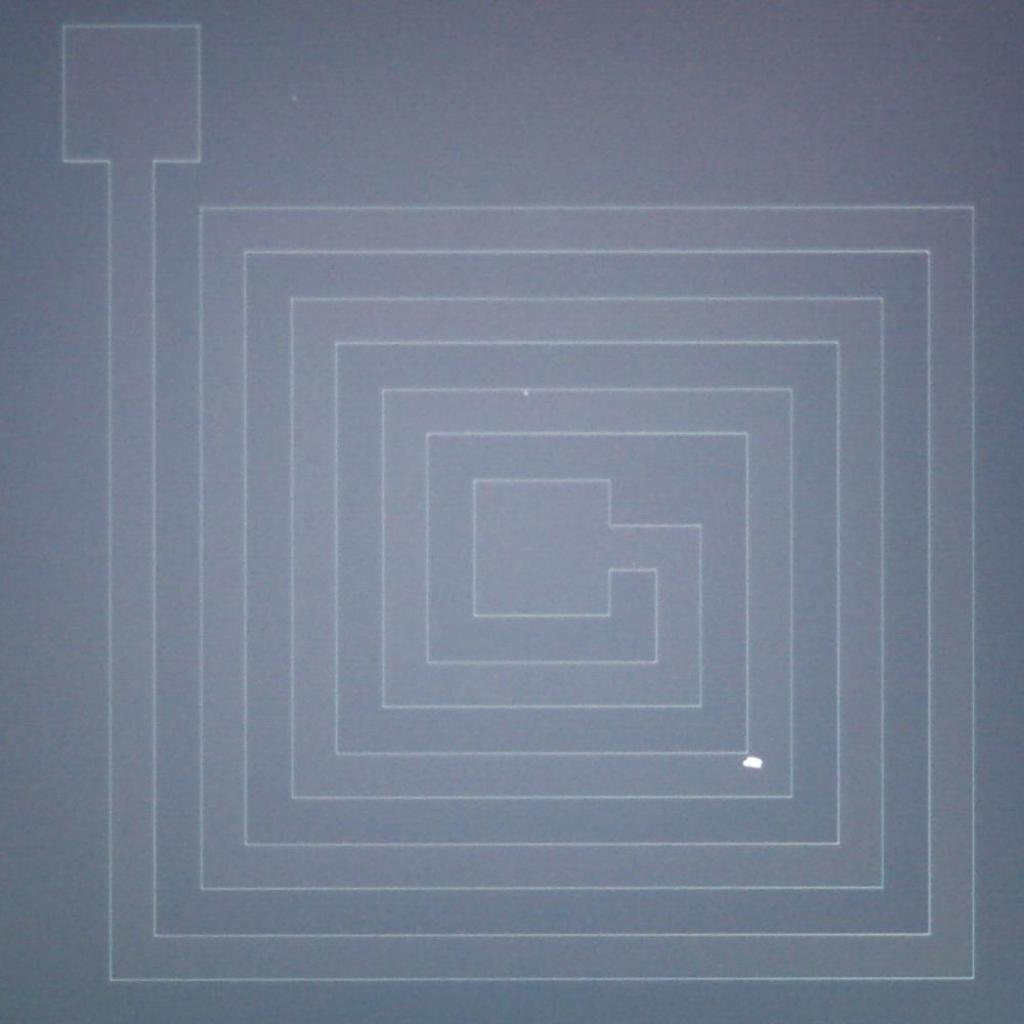dot: (743, 754, 762, 773), (524, 390, 528, 394)
